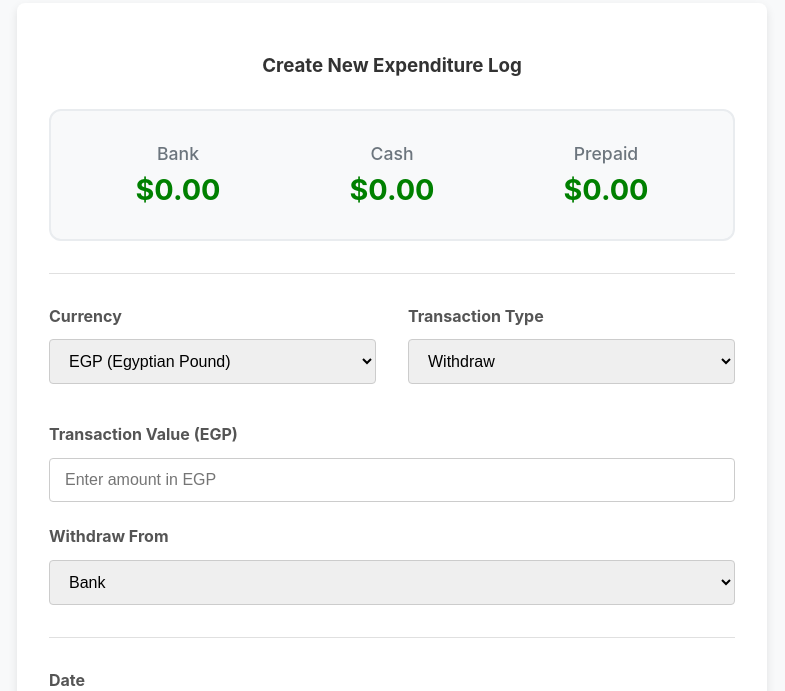
Test: ExpenditureForm - Multi-Currency Selector & Foreign Amount Tests › displays foreignAmount input and conversion confirmation card when currency is changed to USD
The image size is (785, 691).
Select "USD (US Dollar)" in the dropdown labelled "Currency" at coordinates (212, 362), box left=49, top=339, right=376, bottom=384
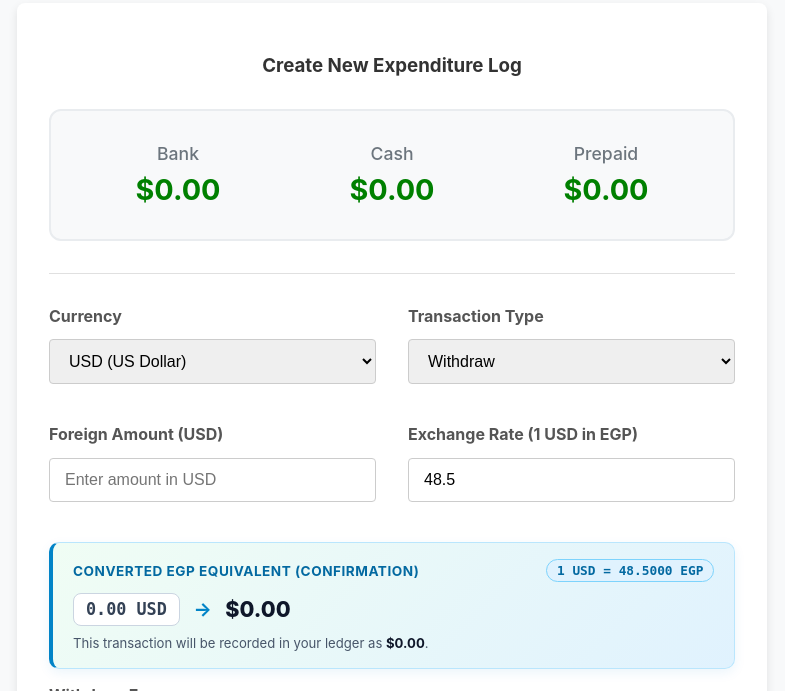
Expected: the number field labelled "Foreign Amount (USD)" is shown, left=49, top=458, right=376, bottom=502
Expected: the number field labelled "Exchange Rate (1 USD in EGP)" is shown, left=408, top=458, right=735, bottom=502
Expected: the element with test id "conversion-confirmation-card" is shown, left=49, top=542, right=735, bottom=669
